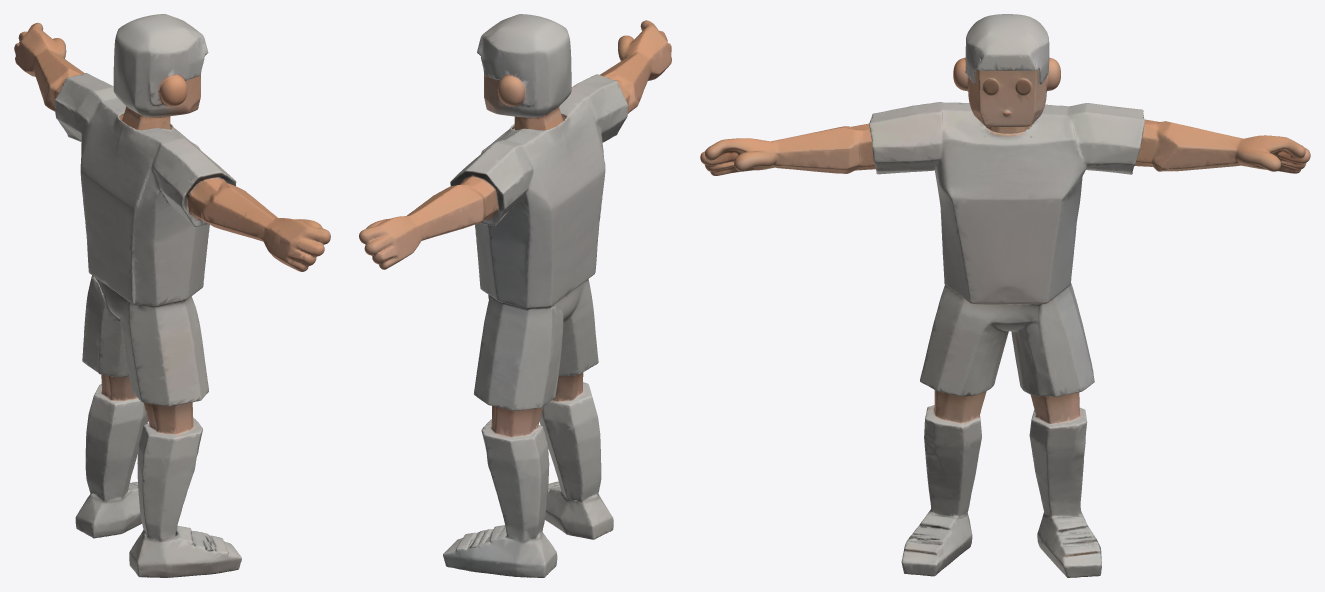
The model's file is low-poly-stylized-human-character-athletic-soccer.glb.
3 views of the same model, side by side, from view 1: azimuth 30°, elevation 25°; view 2: azimuth 150°, elevation 25°; view 3: azimuth 270°, elevation 25° (orthographic). The views are drawn at different scales.
Parts seen in each view (by area): view 1: tripo_node_9bbb24e3-1af3-435d-a7ee-0280cf2938f0; view 2: tripo_node_9bbb24e3-1af3-435d-a7ee-0280cf2938f0; view 3: tripo_node_9bbb24e3-1af3-435d-a7ee-0280cf2938f0.
Part boxes in pixels (box(x1,y1,x2,y2)): tripo_node_9bbb24e3-1af3-435d-a7ee-0280cf2938f0: box(14, 14, 330, 577); tripo_node_9bbb24e3-1af3-435d-a7ee-0280cf2938f0: box(359, 14, 671, 577); tripo_node_9bbb24e3-1af3-435d-a7ee-0280cf2938f0: box(700, 14, 1310, 577).
Size of the model in its own units: 0.1861 by 0.9722 by 0.9998.
Materials: 1 (1 with a texture image).
